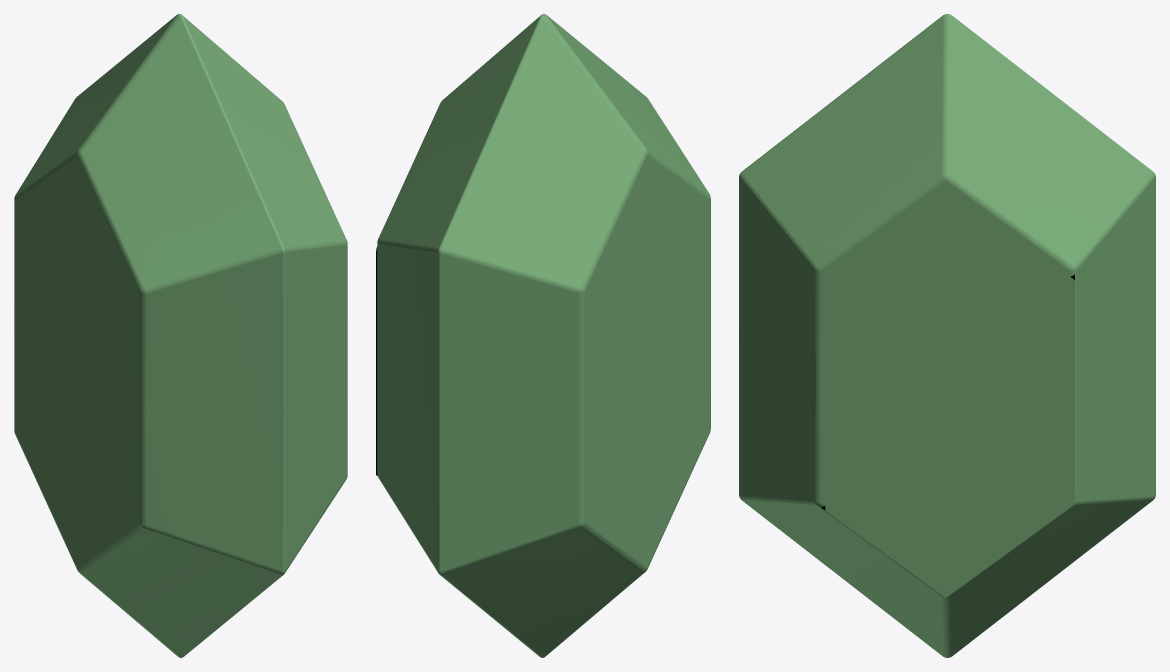
The model's file is legend_of_zelda_rupee.glb.
The picture shows the model from 3 angles, left to right: view 1: azimuth 30°, elevation 25°; view 2: azimuth 150°, elevation 25°; view 3: azimuth 270°, elevation 25°; orthographic projection.
Visible parts, largest first — view 1: Object_2; view 2: Object_2; view 3: Object_2.
Part boxes in pixels (<box>): Object_2: <box>14,14,347,657</box>; Object_2: <box>376,14,710,657</box>; Object_2: <box>739,14,1155,657</box>.
Size of the model in its own units: 40 by 119 by 69.79.
